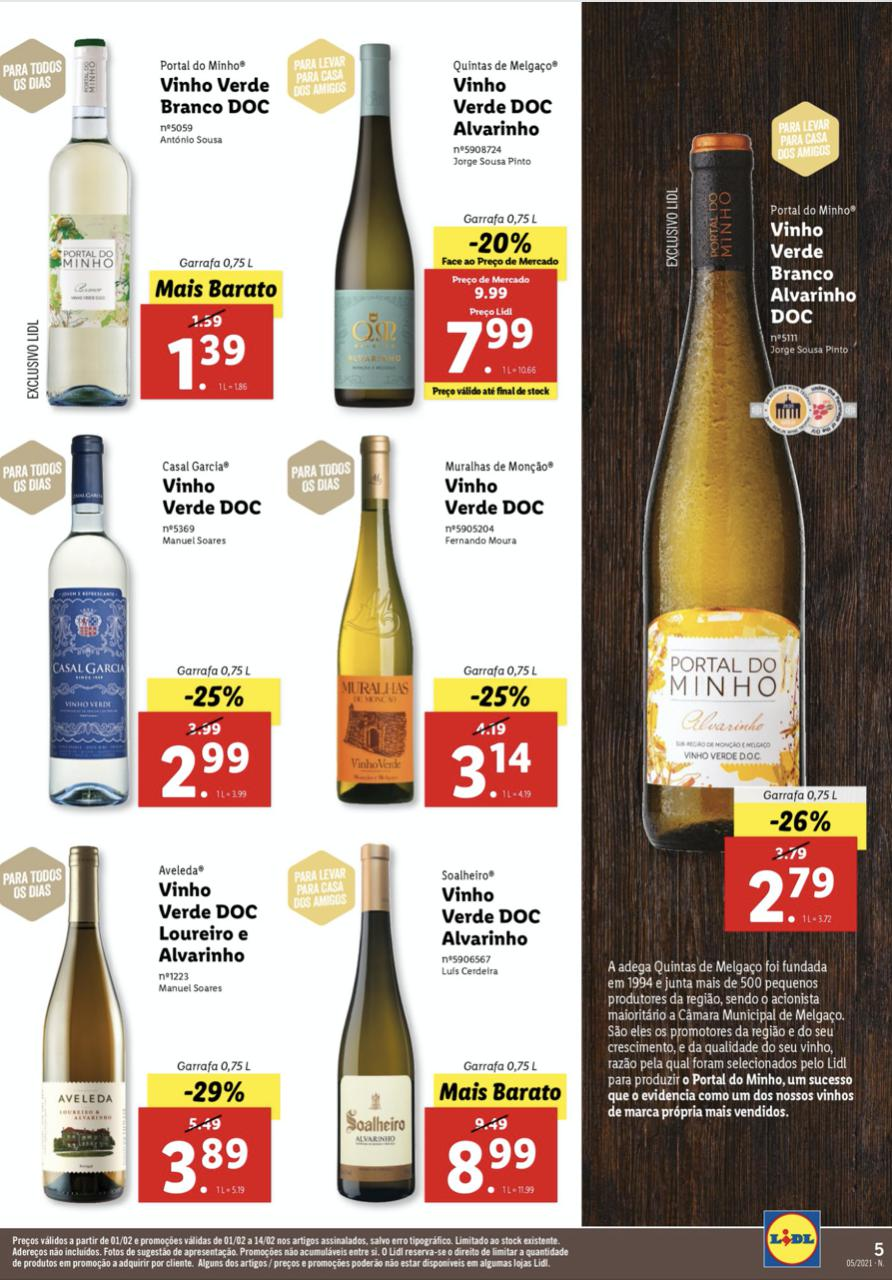name: (763, 218, 868, 336), (144, 876, 261, 971), (436, 71, 561, 139), (433, 883, 547, 953), (155, 72, 279, 120), (441, 476, 555, 520), (161, 476, 266, 518)
price: (436, 310, 539, 377), (439, 1134, 545, 1198), (441, 739, 537, 804), (157, 1134, 253, 1199), (152, 739, 252, 801), (163, 333, 257, 398), (744, 864, 842, 925)
product: (649, 95, 869, 937), (280, 407, 577, 804), (280, 815, 569, 1206), (290, 26, 577, 407), (1, 30, 288, 409), (1, 418, 280, 804), (7, 847, 271, 1212)
promotion: (464, 682, 533, 714), (180, 683, 250, 714), (771, 806, 830, 841), (177, 1082, 250, 1109)
